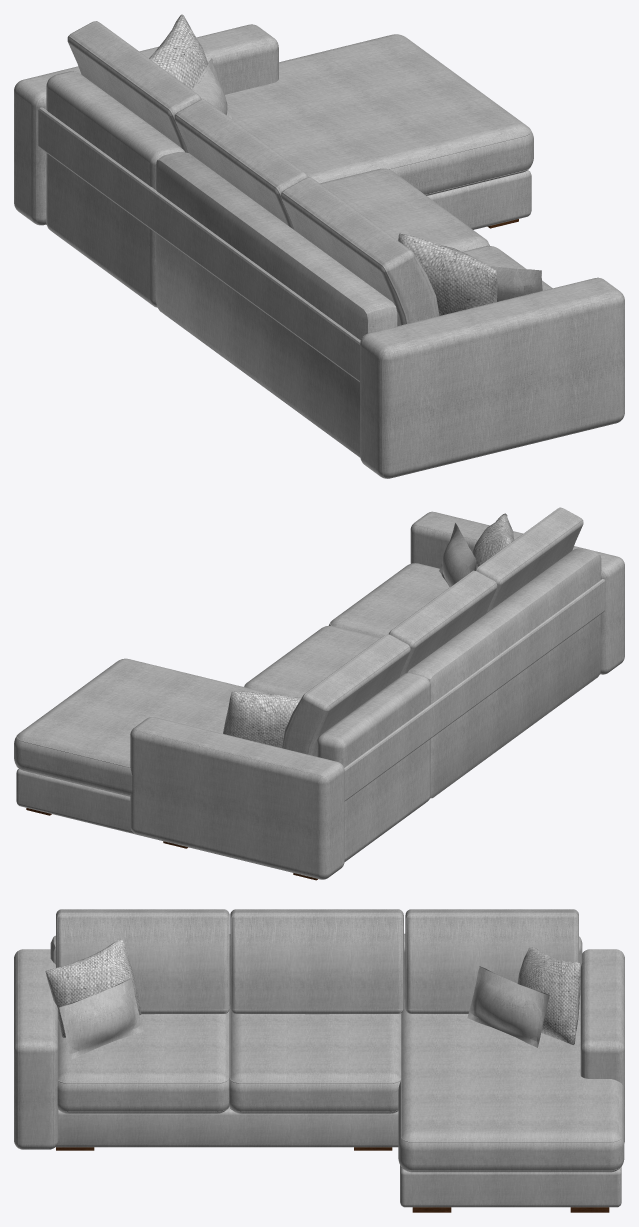
Rendered from divan2.glb.
3 renders of one model, top to bottom at view 1: azimuth 30°, elevation 25°; view 2: azimuth 150°, elevation 25°; view 3: azimuth 270°, elevation 25°, orthographic. The views are drawn at different scales.
Parts seen in each view (by area): view 1: Cube_5, Cube_2, Cube_9_2, Cube_7, Cube_8, Cube_1, Cube_6, Cube_1_2, Cube_1_3, Cube, trn_Pillow_2, Cube_4 (+4 smaller); view 2: Cube_6, Cube_9_2, Cube_2, Cube_7, Cube_8, Cube_1_2, Cube_5, Cube_1_3, Cube_1, Cube, Cube_1_4, Cube_4 (+3 smaller); view 3: Cube_2, Cube_1_3, Cube, Cube_1_4, Cube_1, Cube_1_2, Cube_3, Cube_5, Cube_4, Cube_6, trn_Pillow_1_2, trn_Pillow_1 (+2 smaller).
Part boxes in pixels (x1,y1,x2,y2): Cube_5: (360, 277, 624, 478); Cube_2: (225, 34, 533, 195); Cube_9_2: (156, 152, 397, 457); Cube_7: (46, 71, 184, 307); Cube_8: (38, 107, 360, 381); Cube_1: (281, 177, 439, 326); Cube_6: (14, 24, 278, 225); Cube_1_2: (67, 21, 201, 152); Cube_1_3: (174, 99, 308, 230); Cube: (320, 168, 489, 251); trn_Pillow_2: (398, 233, 497, 315); Cube_4: (427, 170, 531, 229); Cube_6: (130, 717, 344, 879); Cube_9_2: (407, 548, 601, 798); Cube_2: (14, 658, 273, 796); Cube_7: (317, 672, 430, 861); Cube_8: (344, 579, 605, 801); Cube_1_2: (282, 634, 410, 756); Cube_5: (410, 511, 624, 674); Cube_1_3: (389, 570, 497, 677); Cube_1: (475, 507, 583, 613); Cube: (244, 626, 380, 697); Cube_1_4: (328, 563, 449, 637); Cube_4: (16, 769, 135, 834); Cube_2: (398, 995, 624, 1172); Cube_1_3: (230, 909, 403, 1014); Cube: (229, 1005, 401, 1113); Cube_1_4: (57, 1010, 229, 1113); Cube_1: (56, 909, 229, 1014); Cube_1_2: (405, 909, 578, 1013); Cube_3: (55, 1107, 398, 1147); Cube_5: (14, 949, 58, 1149); Cube_4: (400, 1165, 621, 1207); Cube_6: (580, 949, 624, 1142); trn_Pillow_1_2: (59, 978, 143, 1059); trn_Pillow_1: (467, 966, 549, 1047).
Size of the model in its own units: 1.67 by 0.8455 by 2.76.
Materials: 3 (3 with a texture image).
